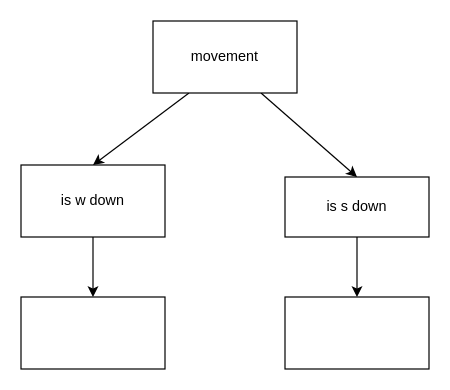
Some shapes in this 450 by 390 pixel diagram are drawn without their labels. Each missing label, with the centre of its shape:
move backwards: pixel 356 332
move forward: pixel 92 332
